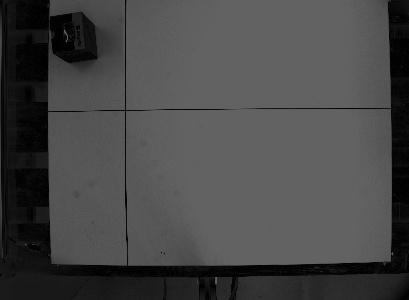b7: (46, 9, 99, 64)
